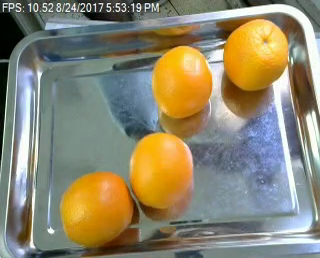Orange: (59, 171, 133, 248), (222, 17, 289, 90), (131, 133, 193, 209), (151, 45, 212, 118)
